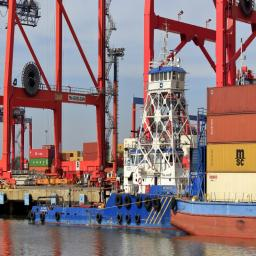tugboat: (26, 64, 209, 241)
